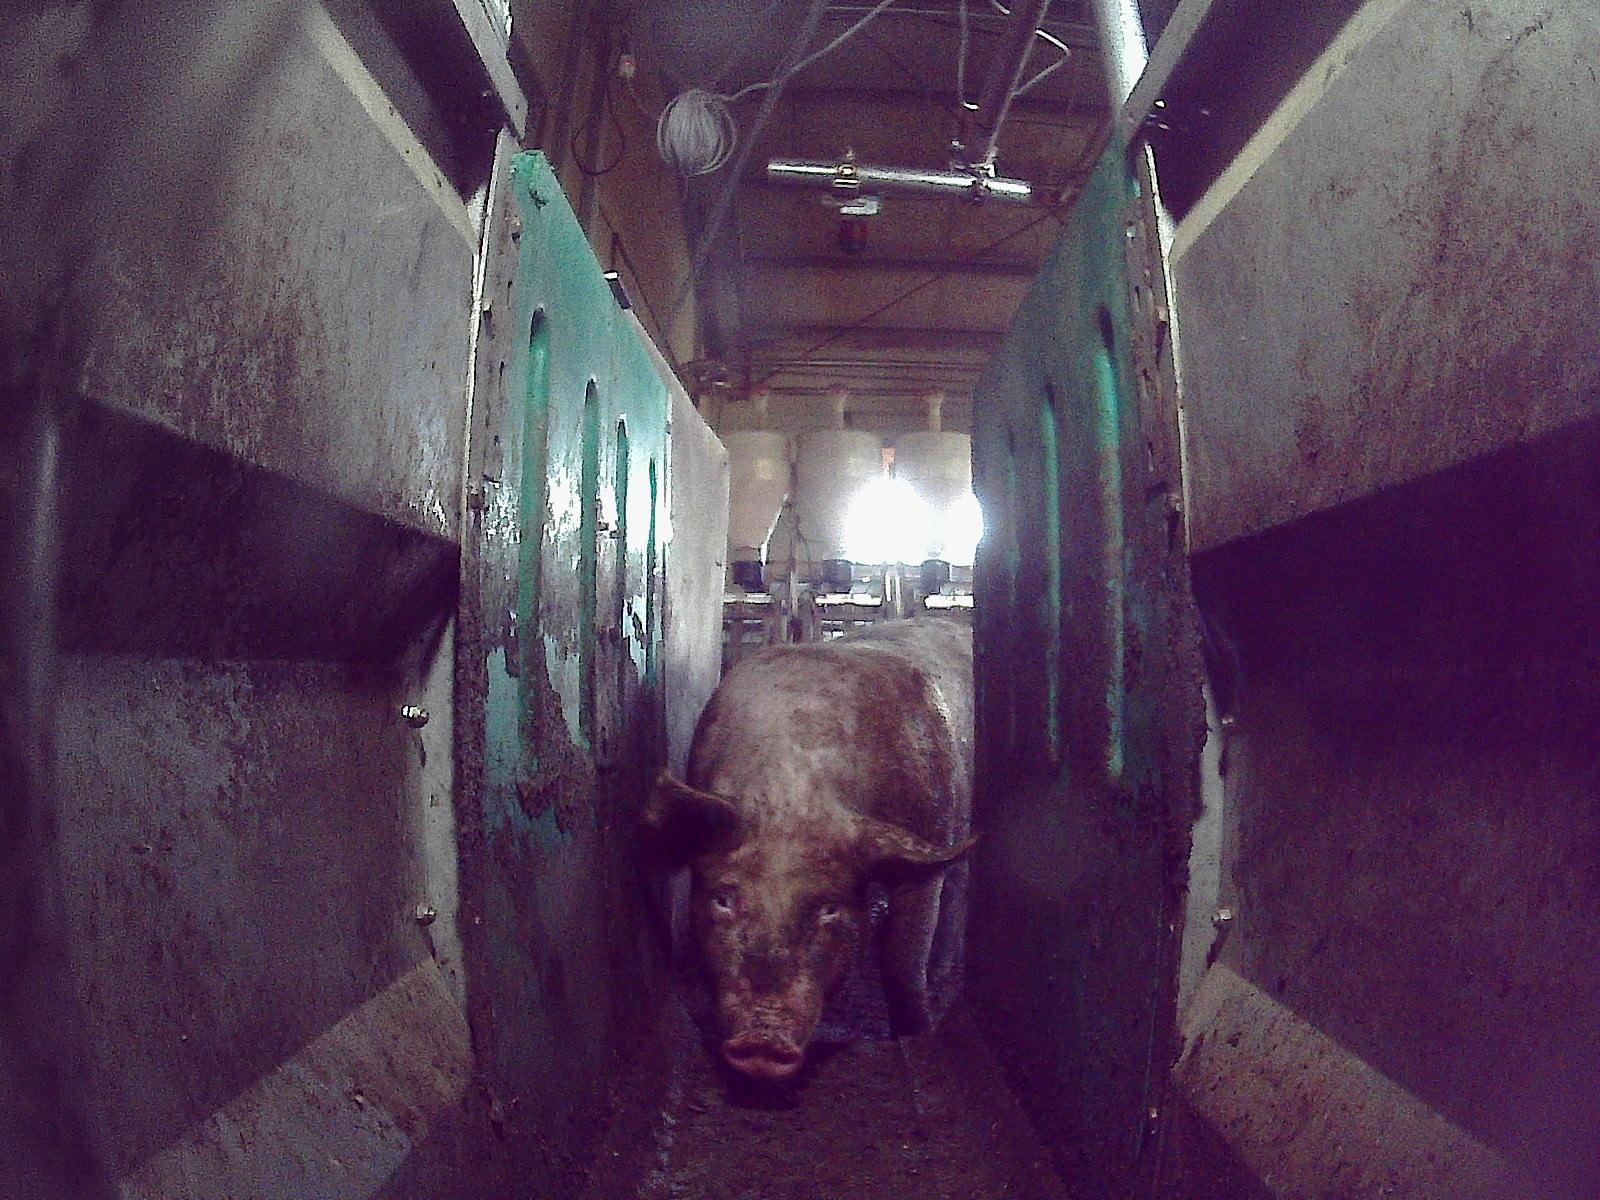Face: (685, 801, 869, 1078)
